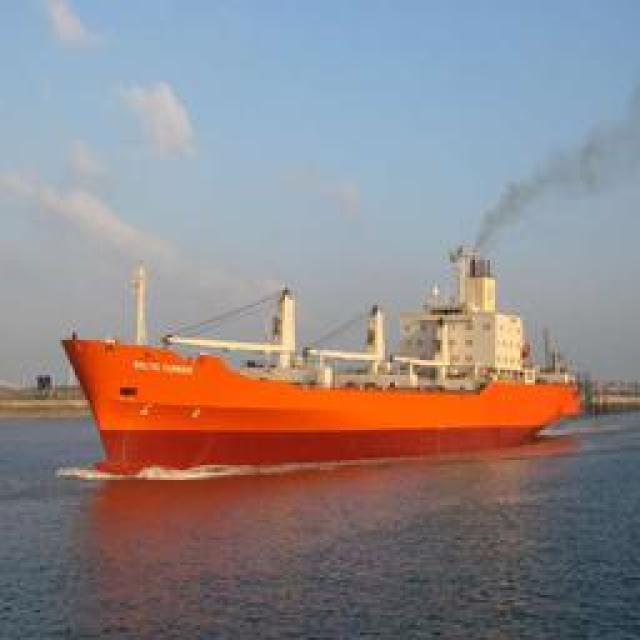CIV_Ship: (60, 235, 585, 475)
